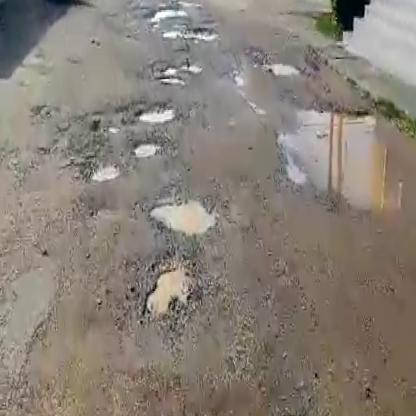pothole: (271, 108, 416, 224), (137, 252, 201, 332), (151, 190, 223, 243), (154, 62, 202, 89), (135, 99, 180, 124), (163, 23, 219, 42), (88, 162, 121, 187), (129, 139, 163, 161), (266, 61, 302, 75)
